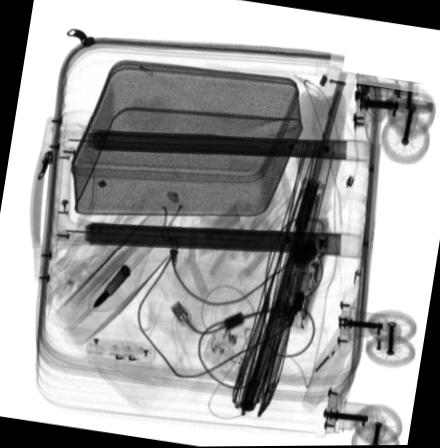Bullet: (91, 263, 130, 307)
